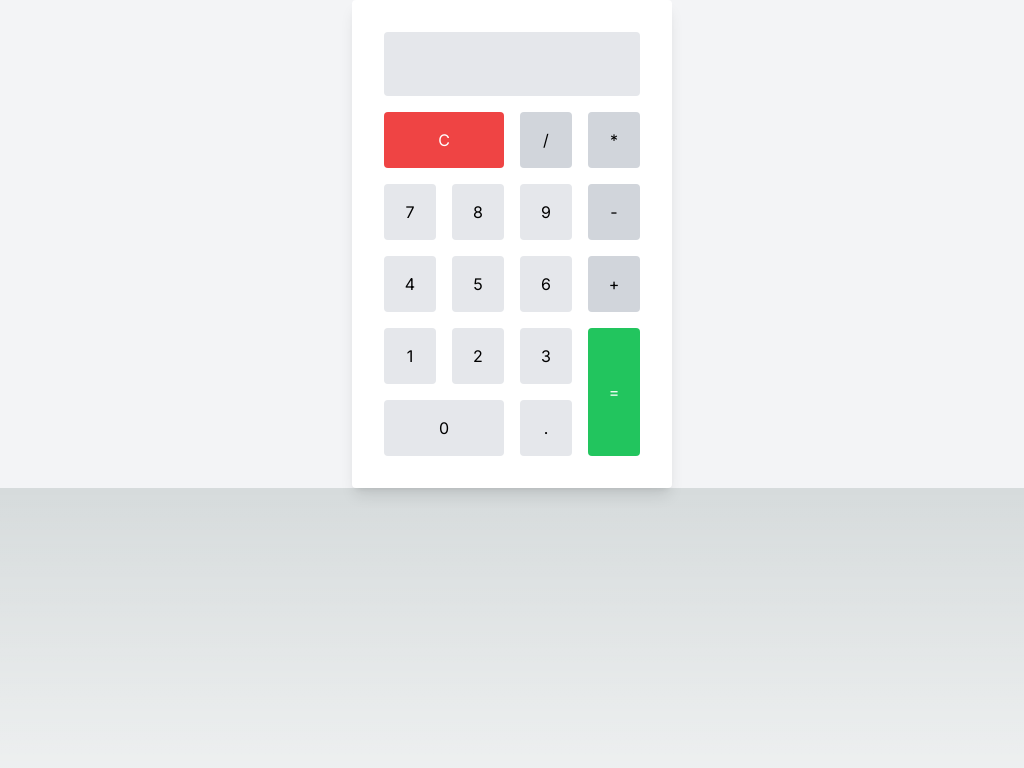
it: performs addition correctly
Click the button "1". click: (410, 356)
box: [384,328,436,384]
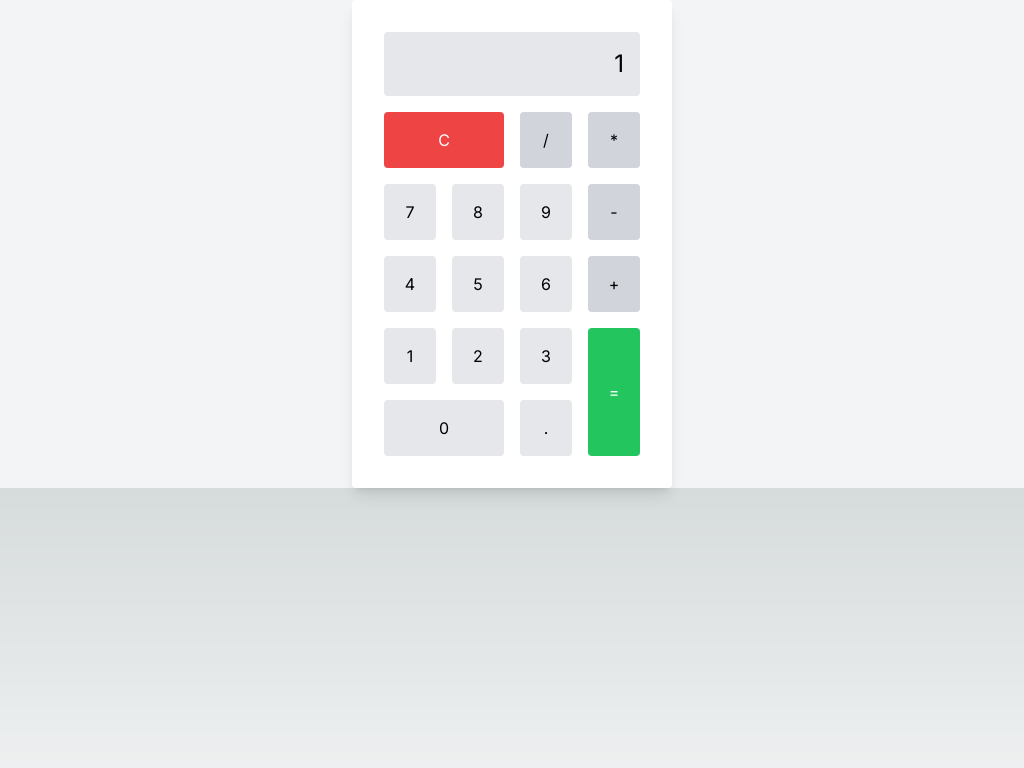
Click the button "+". click: (614, 284)
box: [588,256,640,312]
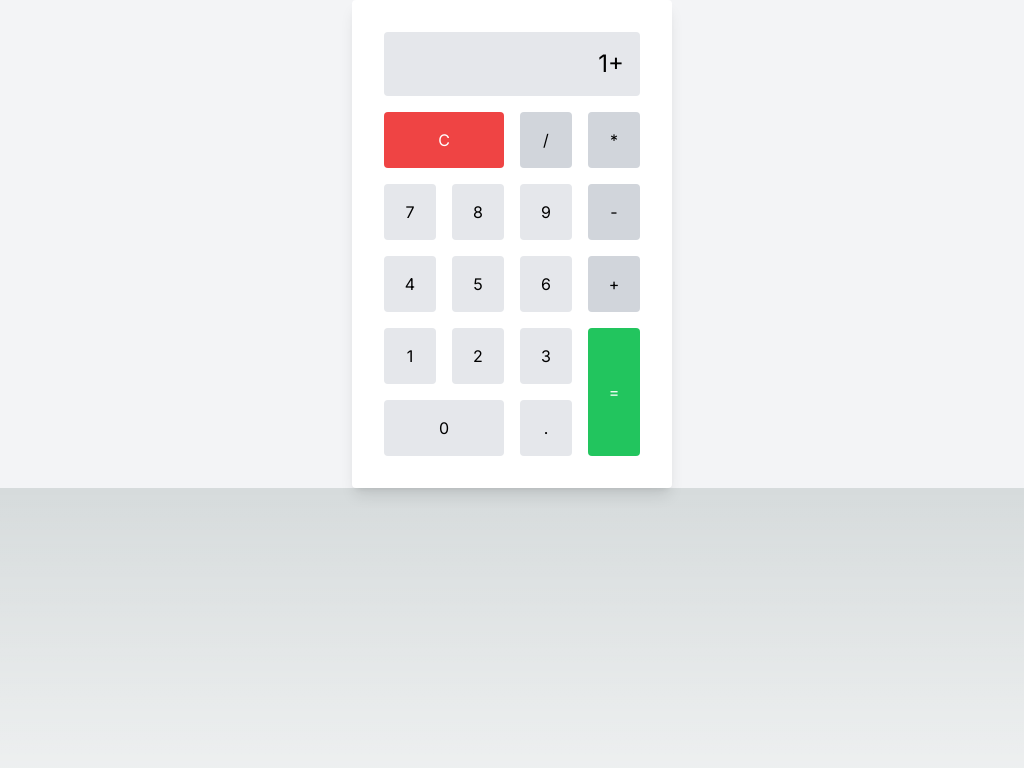
Click the button "2". click: (478, 356)
box: [452,328,504,384]
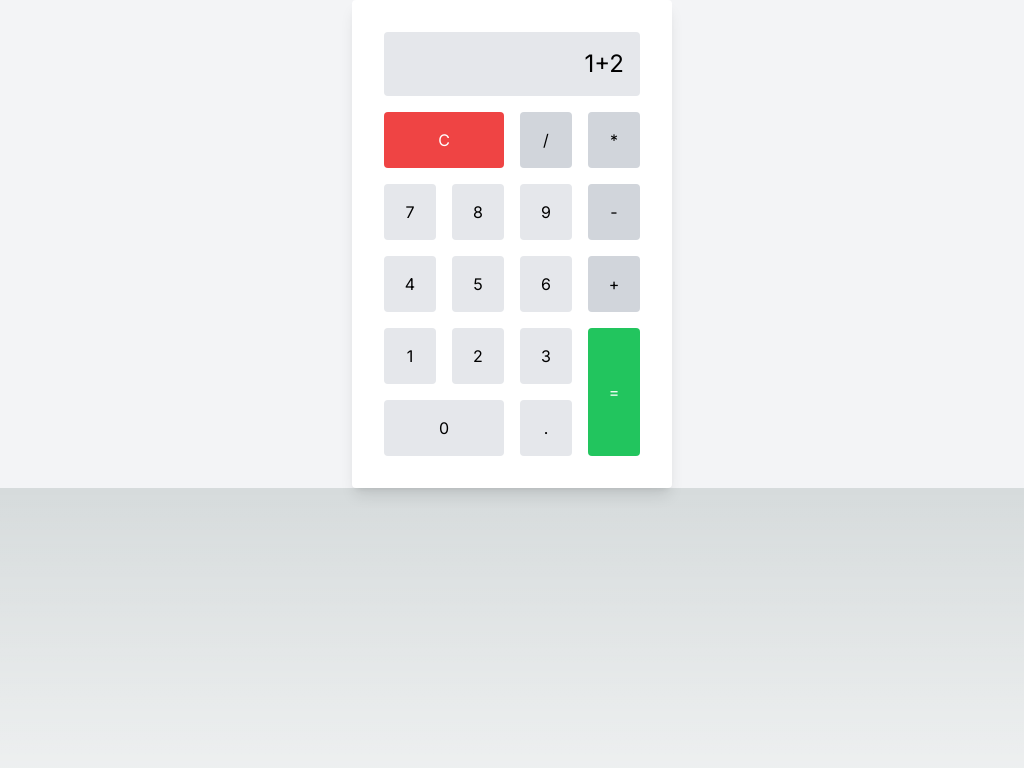
Click the button "=". click: (614, 392)
box: [588,328,640,456]
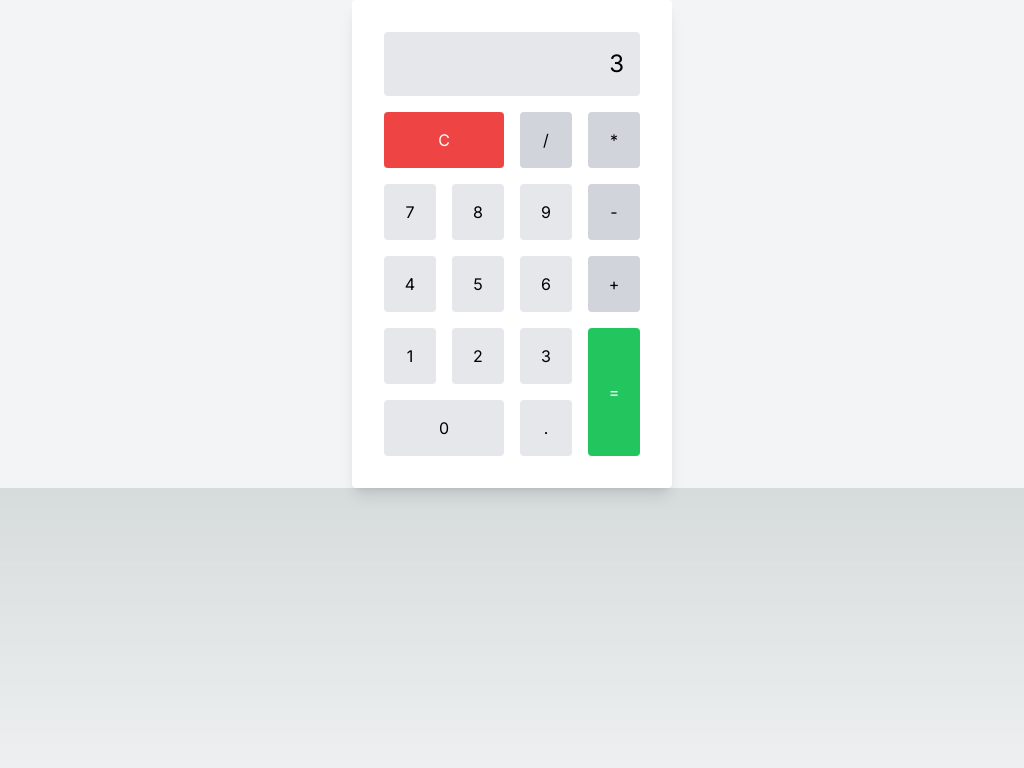
Expected: the field showing "3" is shown, [384,32,640,96]
